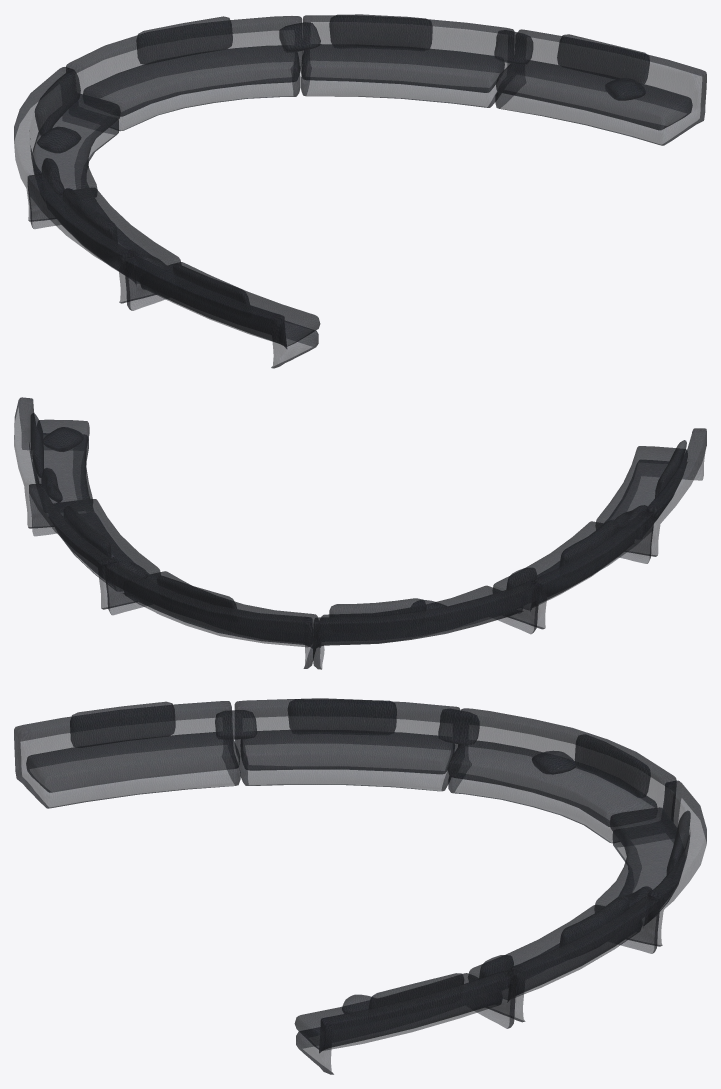
Rendered from couches.obj.
3 views of the same model, one above another, from view 1: azimuth 30°, elevation 25°; view 2: azimuth 150°, elevation 25°; view 3: azimuth 270°, elevation 25° (orthographic). The views are drawn at different scales.
Parts seen in each view (by area): view 1: combined_Combined_Mesh_(root:_scene).074; view 2: combined_Combined_Mesh_(root:_scene).074; view 3: combined_Combined_Mesh_(root:_scene).074.
Boxes of the visible parts, x1,y1,x2,y2 form: combined_Combined_Mesh_(root:_scene).074: (14,14,706,368); combined_Combined_Mesh_(root:_scene).074: (14,397,706,669); combined_Combined_Mesh_(root:_scene).074: (14,698,706,1074).
Size of the model in its own units: 12.53 by 1.17 by 11.29.
Materials: 1 (1 with a texture image).
